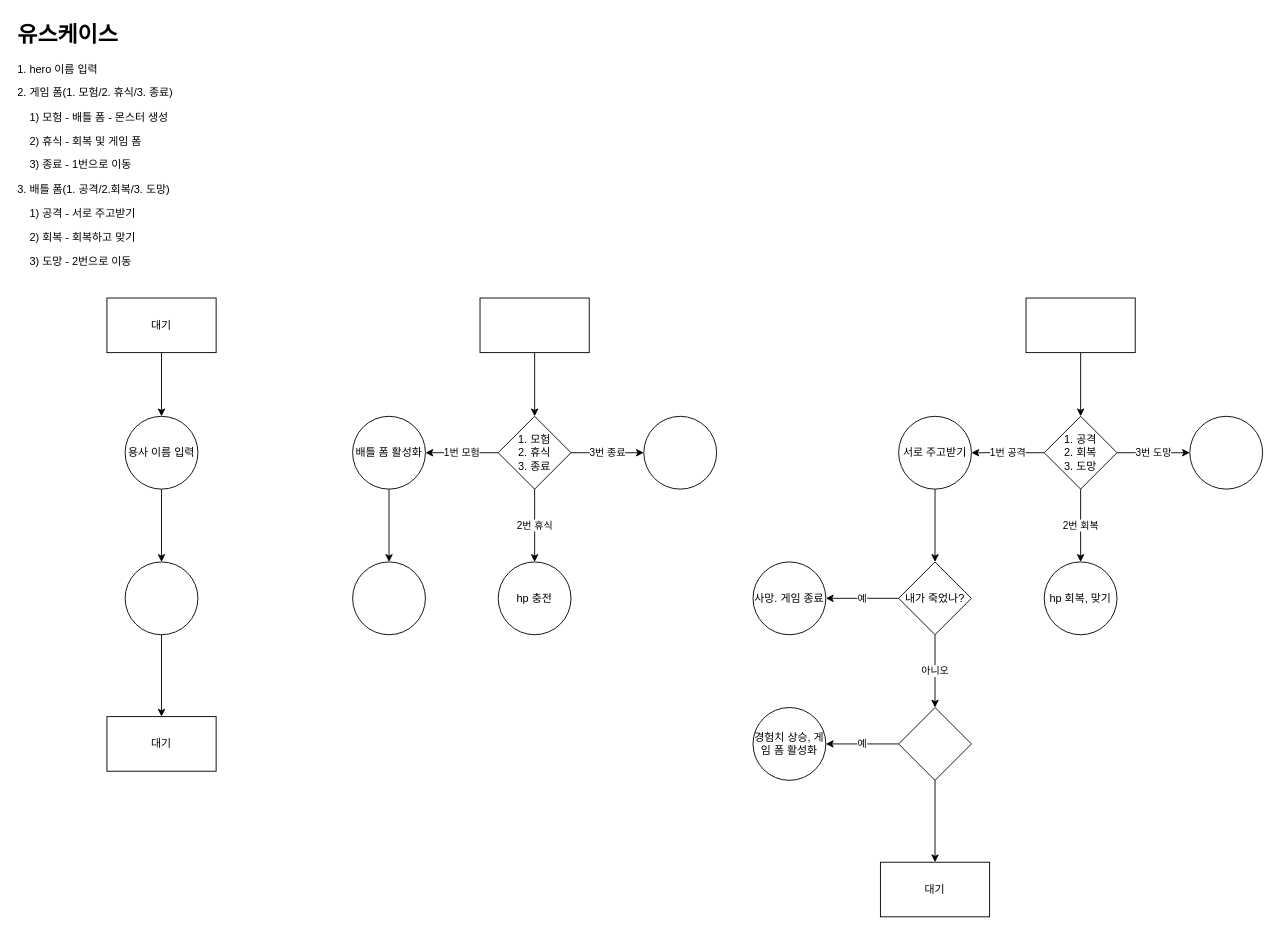
Some shapes in this 1279 by 933 pixel diagram are drawn without their labels. The shapes that lost their labels are listed below. From the top down, each one's centre as x and y in pixels, then its label:
the point at 534,325: 게임 폼
the point at 1080,325: 배틀 폼
the point at 680,452: 1번 폼으로 이동
the point at 1226,452: 게임폼 활성화
the point at 161,598: 게임 폼 활성화
the point at 388,598: 랜덤 몬스터 생성
the point at 934,743: 몬스터가 죽었나?
